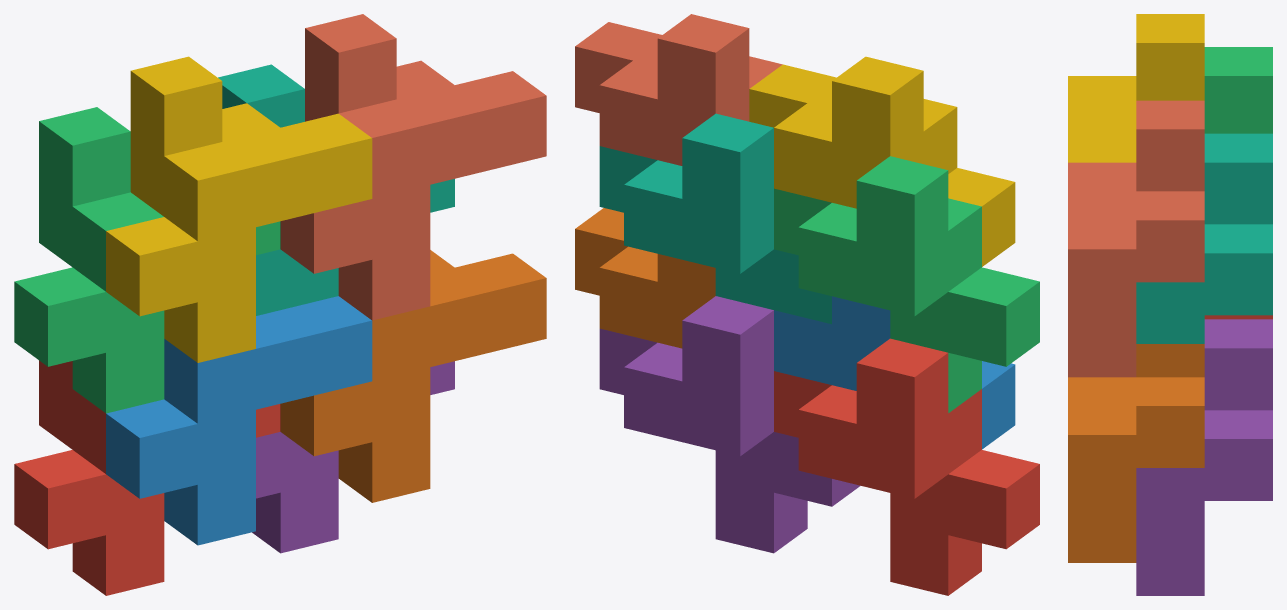
Rendered from tiling.obj.
3 renders of one model, left to right at view 1: azimuth 30°, elevation 25°; view 2: azimuth 150°, elevation 25°; view 3: azimuth 270°, elevation 25°, orthographic.
Visible parts, largest first — view 1: copy_1_domain_4, copy_1_domain_8, copy_1_domain_2, copy_1_domain_3, copy_1_domain_6, copy_1_domain_1, copy_1_domain_5, copy_1_domain_7; view 2: copy_1_domain_1, copy_1_domain_3, copy_1_domain_5, copy_1_domain_7, copy_1_domain_4, copy_1_domain_8, copy_1_domain_6, copy_1_domain_2; view 3: copy_1_domain_8, copy_1_domain_5, copy_1_domain_6, copy_1_domain_7, copy_1_domain_4, copy_1_domain_3, copy_1_domain_1.
Boxes of the visible parts, left/top/right/bottom form: copy_1_domain_4: left=106, top=56, right=372, bottom=362; copy_1_domain_8: left=280, top=14, right=546, bottom=320; copy_1_domain_2: left=106, top=296, right=372, bottom=545; copy_1_domain_3: left=14, top=107, right=280, bottom=413; copy_1_domain_6: left=280, top=250, right=546, bottom=502; copy_1_domain_1: left=14, top=360, right=280, bottom=595; copy_1_domain_5: left=252, top=361, right=454, bottom=553; copy_1_domain_7: left=218, top=64, right=454, bottom=315; copy_1_domain_1: left=774, top=338, right=1039, bottom=595; copy_1_domain_3: left=774, top=156, right=1039, bottom=412; copy_1_domain_5: left=599, top=296, right=860, bottom=553; copy_1_domain_7: left=599, top=113, right=831, bottom=324; copy_1_domain_4: left=749, top=56, right=1015, bottom=266; copy_1_domain_8: left=575, top=14, right=782, bottom=165; copy_1_domain_6: left=575, top=208, right=715, bottom=348; copy_1_domain_2: left=774, top=296, right=1015, bottom=449; copy_1_domain_8: left=1068, top=100, right=1204, bottom=377; copy_1_domain_5: left=1136, top=319, right=1272, bottom=595; copy_1_domain_6: left=1068, top=344, right=1204, bottom=562; copy_1_domain_7: left=1136, top=133, right=1272, bottom=343; copy_1_domain_4: left=1068, top=14, right=1204, bottom=162; copy_1_domain_3: left=1204, top=47, right=1272, bottom=133; copy_1_domain_1: left=1204, top=315, right=1272, bottom=319.
Bounding box in the file's own units: 8 × 8 × 3.
